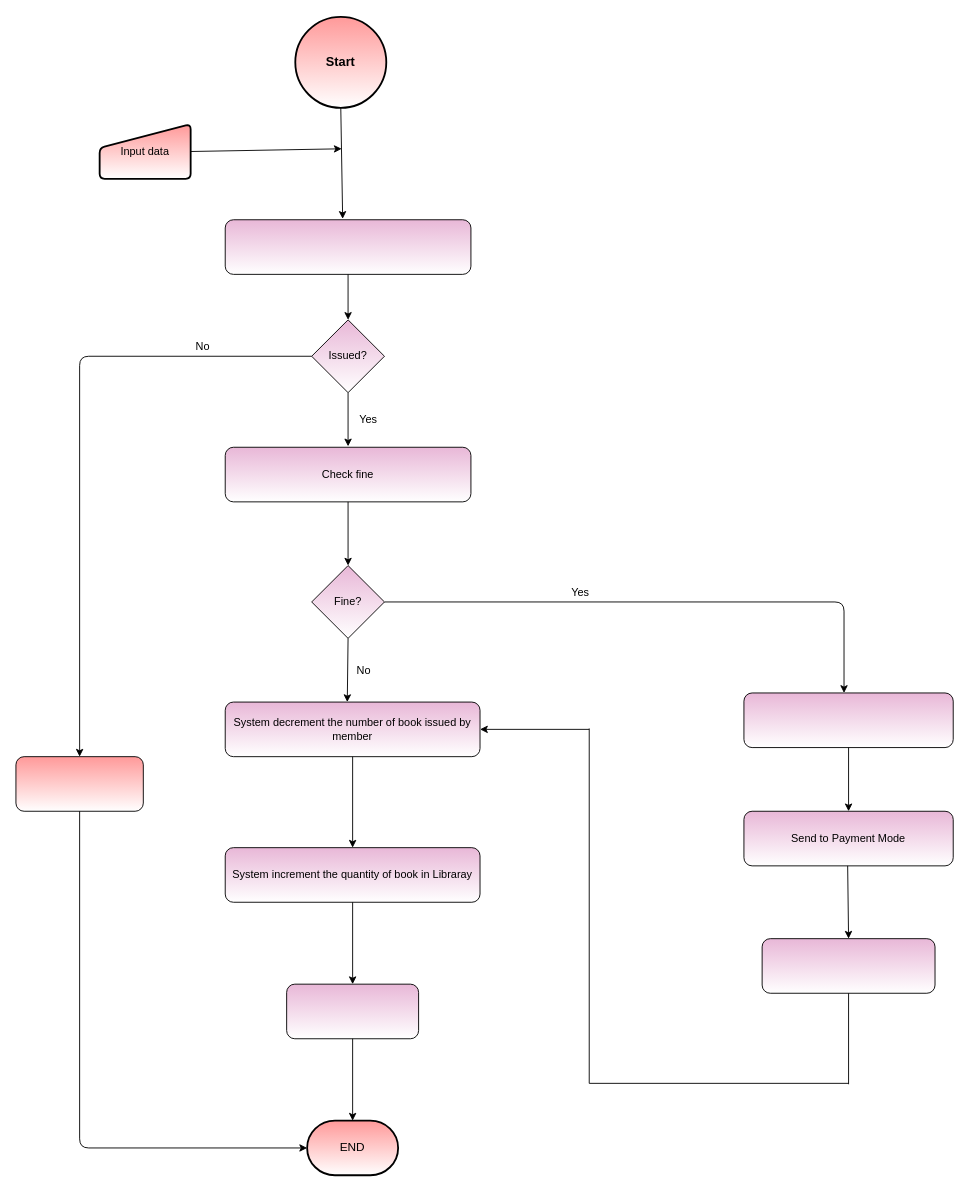
The diagram is 969 pixels wide and 1191 high, and some of its shapes have lost their labels. The shapes that lost their labels are listed below. From the top down, each one's centre as x and y in pixels, then its label:
At point (347, 246): "Check book issued by member".
At point (848, 720): "Calculate fine".
At point (79, 783): "Show Error Message".
At point (848, 965): "Collect fine".
At point (352, 1011): "Book Return".
